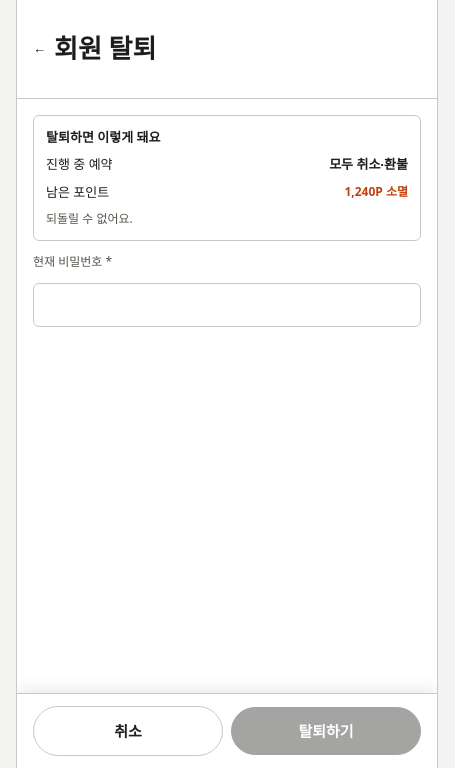
Test: WithdrawPage (C7) › CURRENT_PASSWORD_MISMATCH면 칸 아래 「비밀번호가 일치하지 않습니다.」, 입력은 유지
Type "wrong-pw" into the password field labelled "현재 비밀번호 *" at (227, 305), box [33,283,421,327]
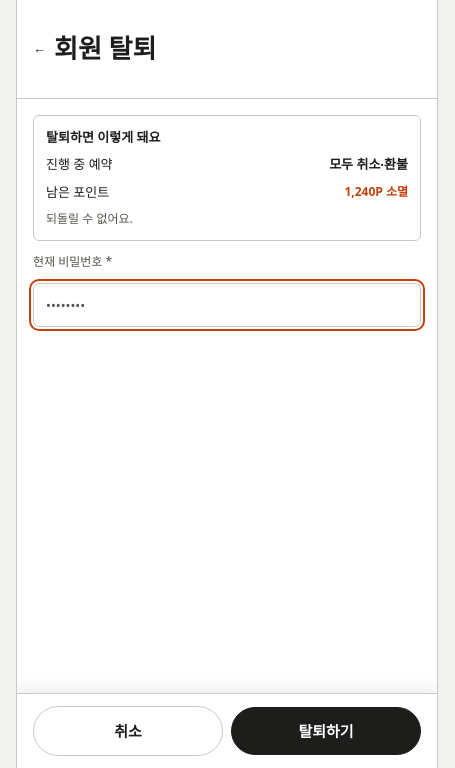
Click the button "탈퇴하기" at (326, 731), box [231,707,421,755]
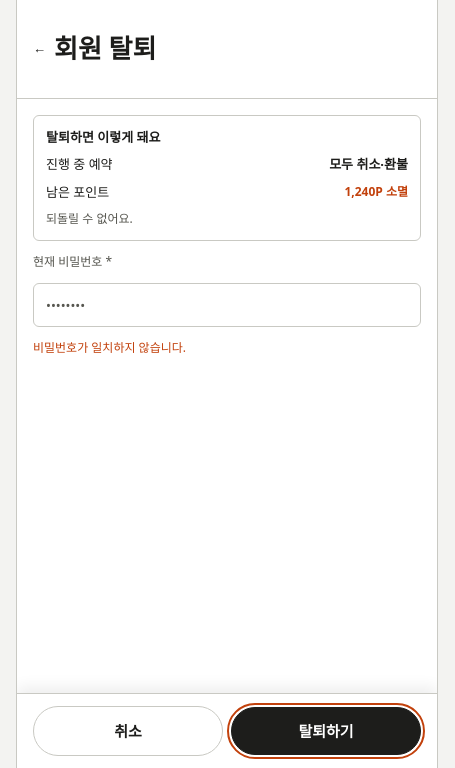
Now the text "비밀번호가 일치하지 않습니다." is shown, box [33,339,186,356]
